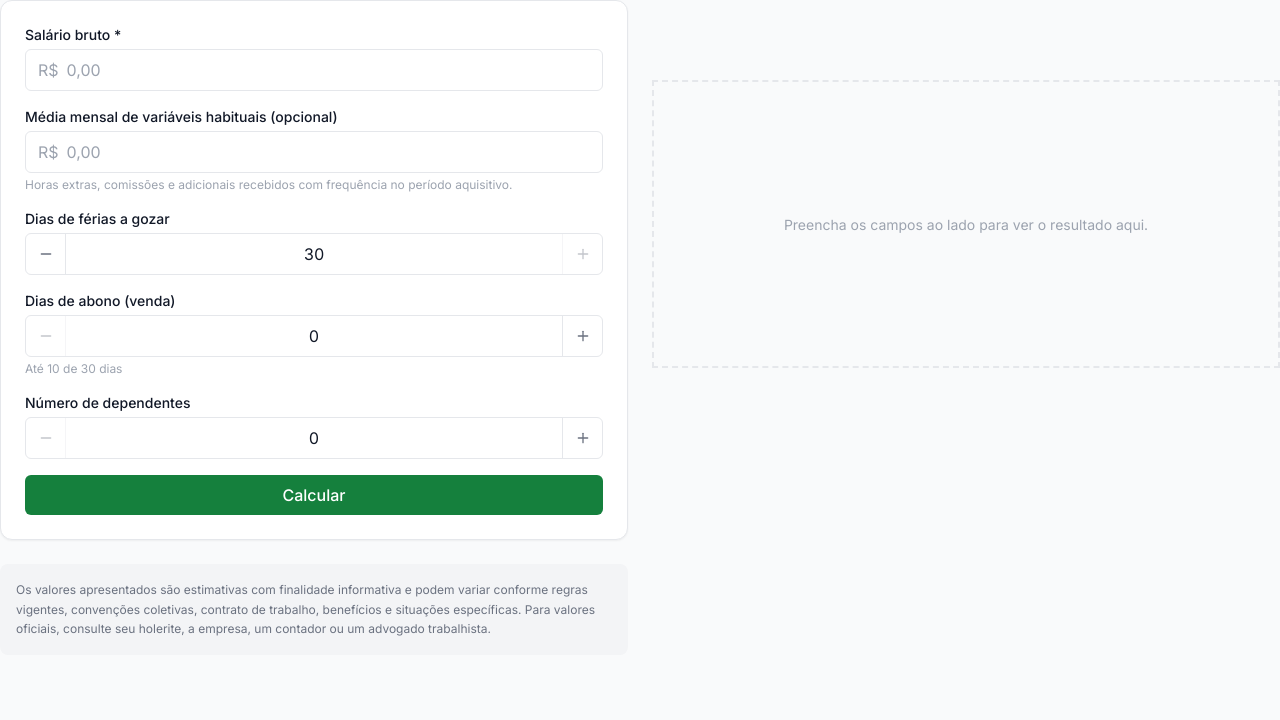
Scenario: validação sem balões do navegador › 12 dias vendidos: o formulário envia e mostra a mensagem do app
The image size is (1280, 720).
Type "300000" into the field labelled "Salário bruto *" at (324, 70), box [59, 50, 590, 90]
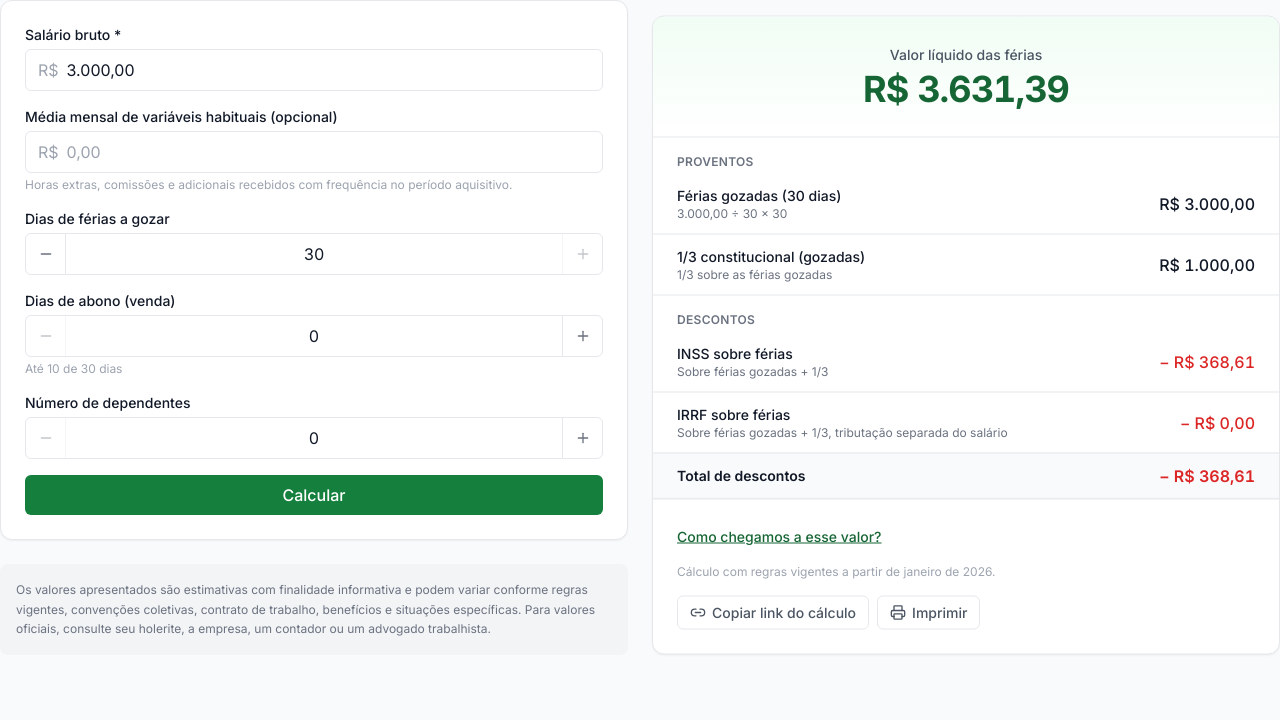
Replace the text in the number field labelled "Dias de abono (venda)" with "12" at (314, 336), box [66, 316, 562, 356]
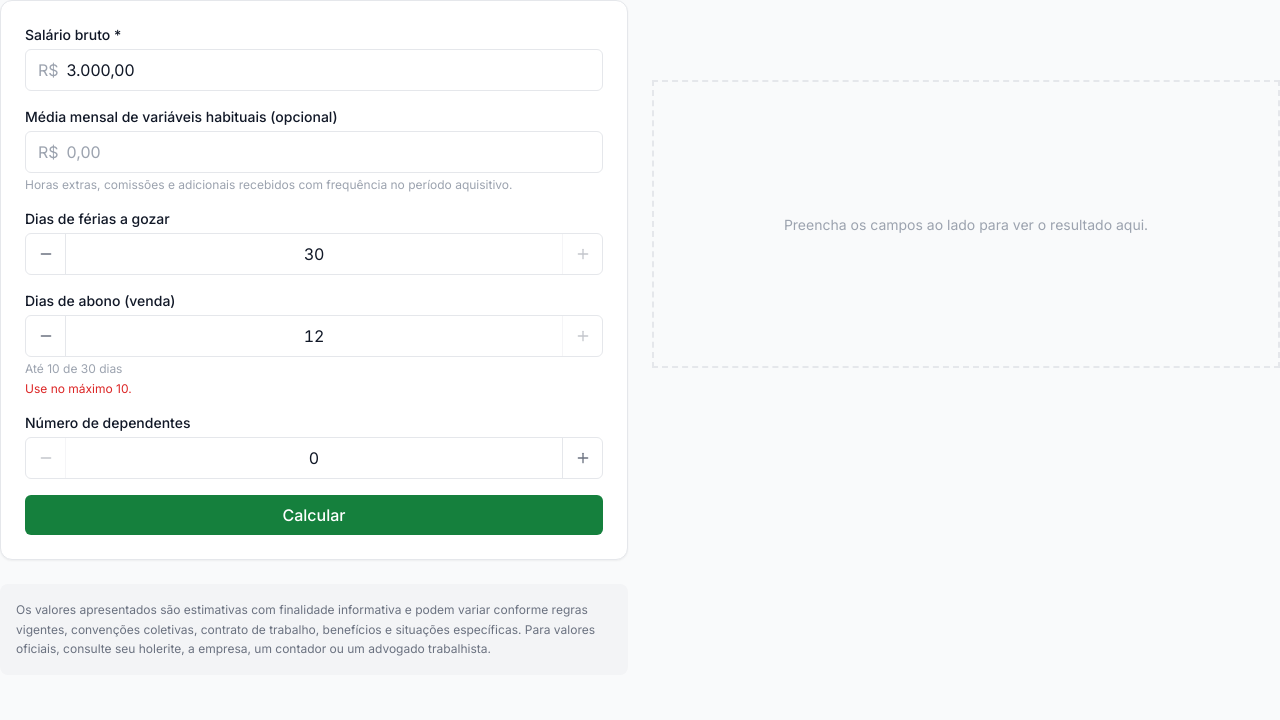
Submit the form named "Calcular", box [0, 0, 628, 560]
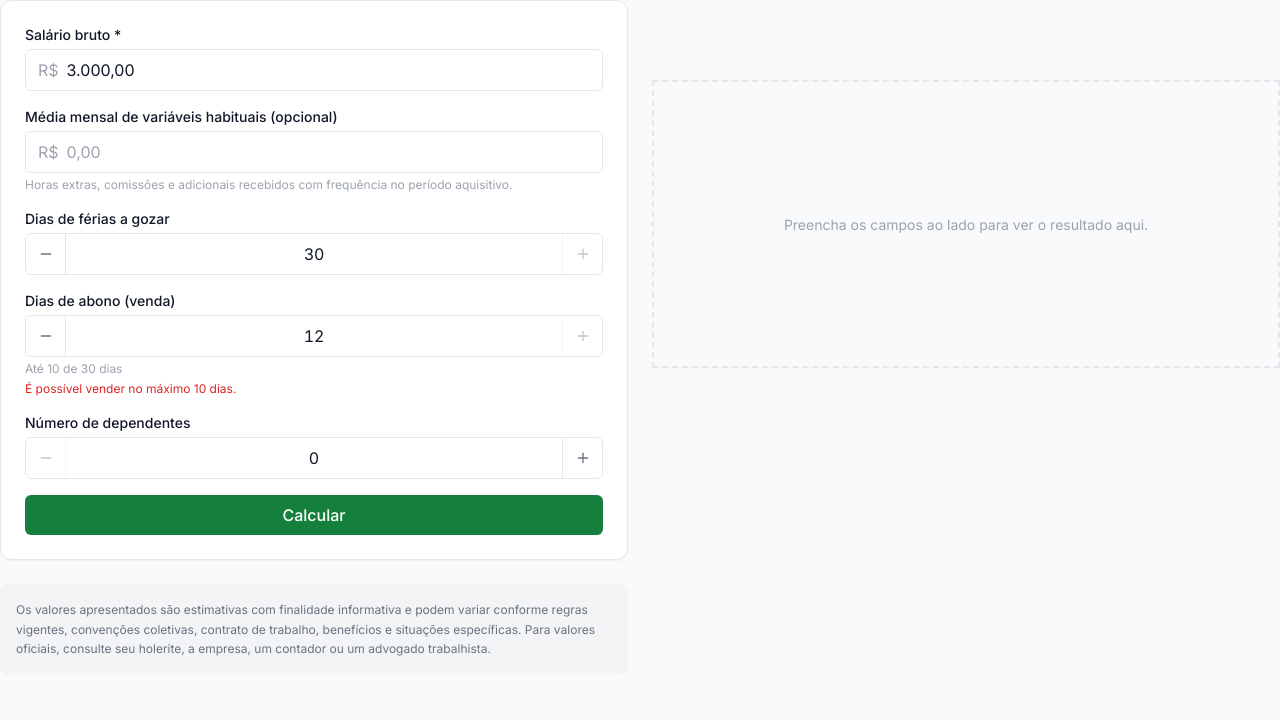
Expected: the text "É possível vender no máximo 10 dias." is shown, [25, 381, 236, 396]
